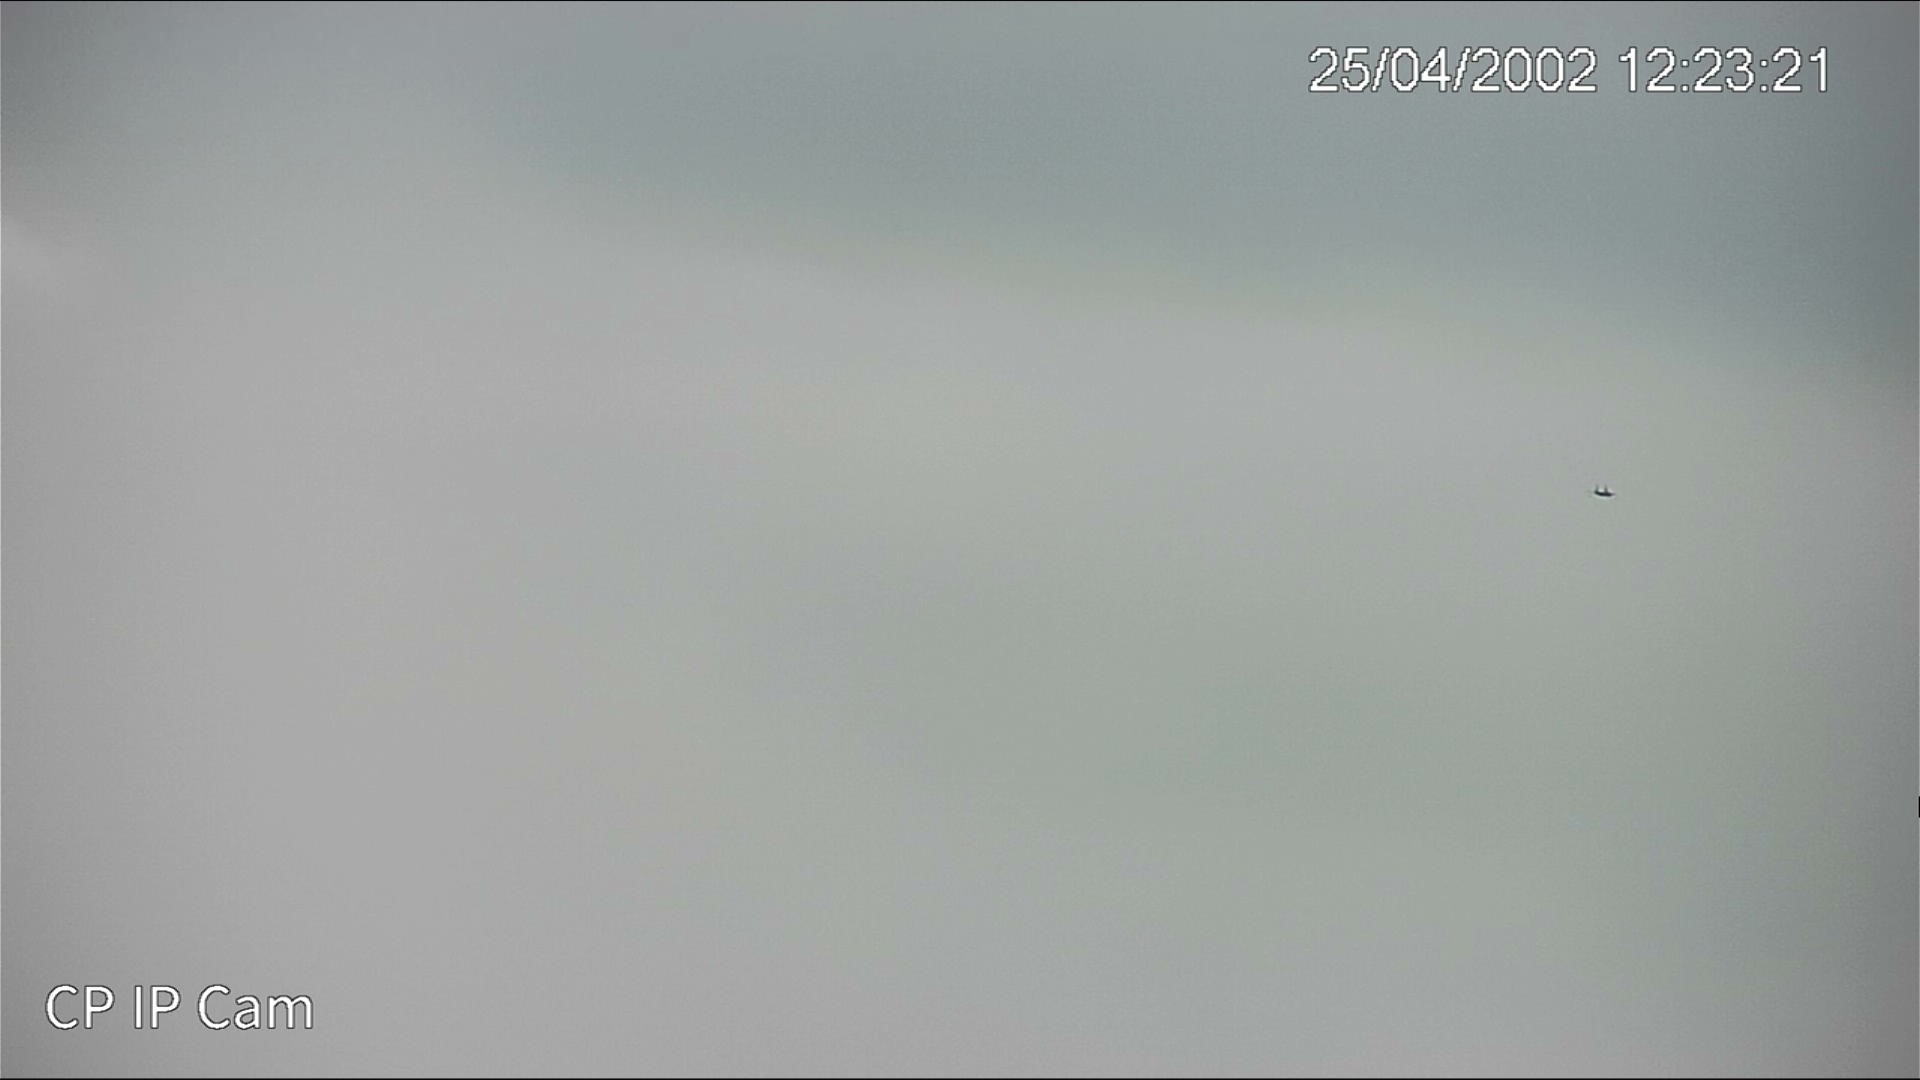SU_30: (1590, 484, 1614, 498)
